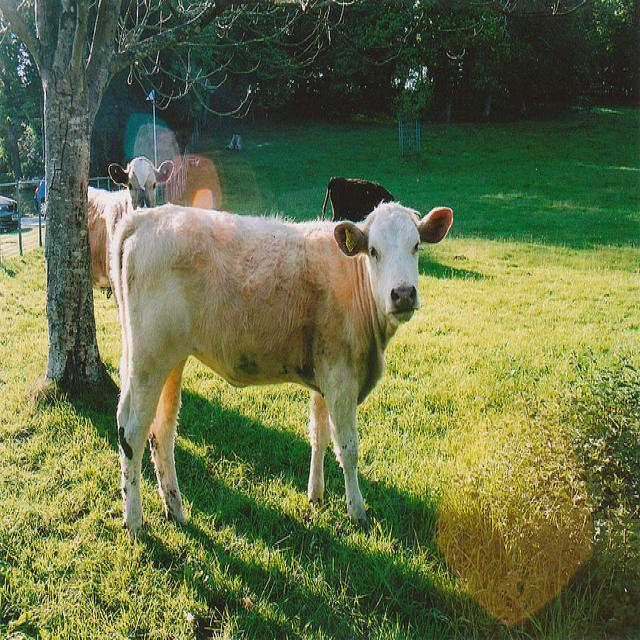Vehicle: (0, 193, 19, 234), (35, 176, 45, 211)
